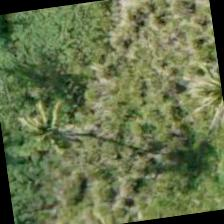Kelapa_Sawit: (0, 82, 99, 185)
